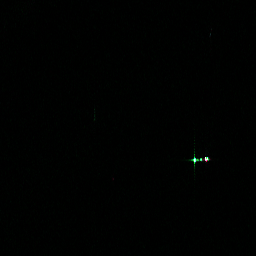ship: (189, 154, 211, 165)
